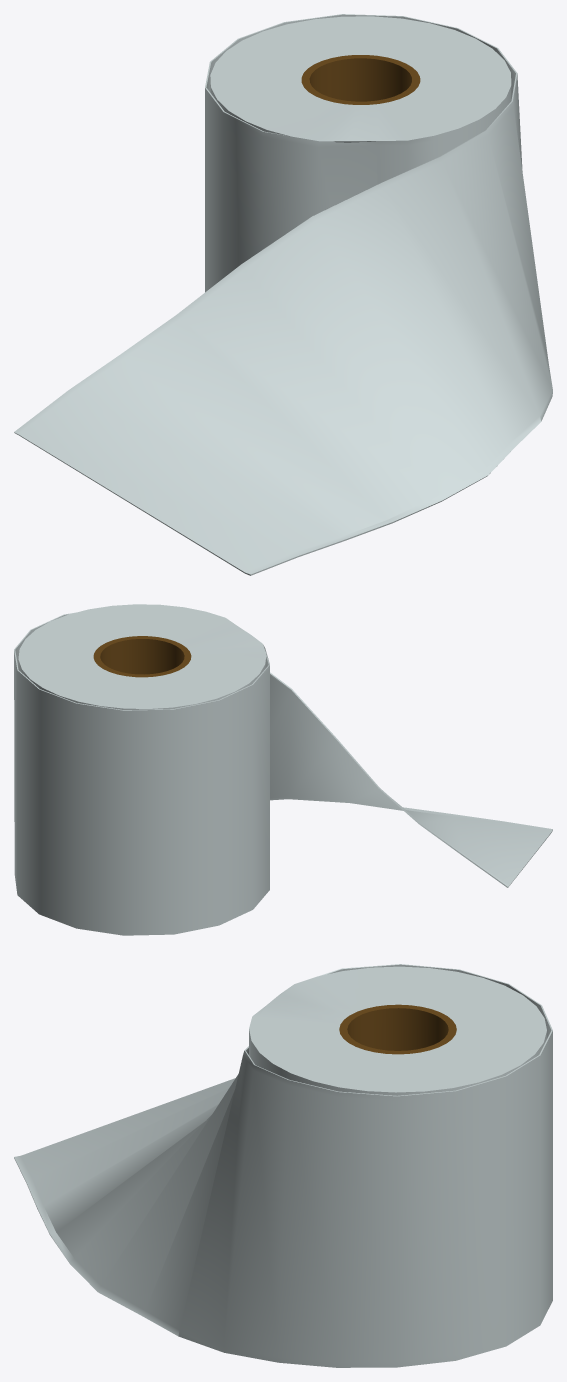
The model's file is paper2.fbx.
3 renders of one model, top to bottom at view 1: azimuth 30°, elevation 25°; view 2: azimuth 150°, elevation 25°; view 3: azimuth 270°, elevation 25°, orthographic. The views are drawn at different scales.
Parts seen in each view (by area): view 1: 柱体; view 2: 柱体; view 3: 柱体.
Part boxes in pixels (<box>): 柱体: <box>14,14,552,575</box>; 柱体: <box>14,604,552,935</box>; 柱体: <box>14,964,552,1367</box>.
Size of the model in its own units: 409 by 205 by 362.
